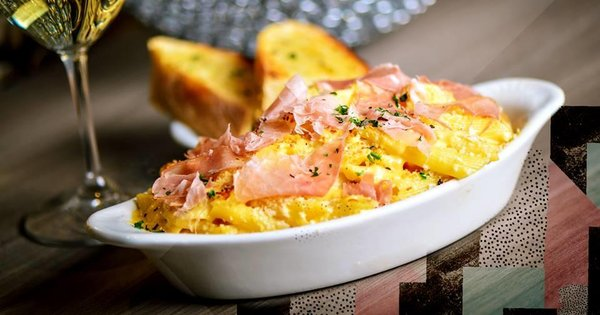sushi: (36, 15, 564, 303)
